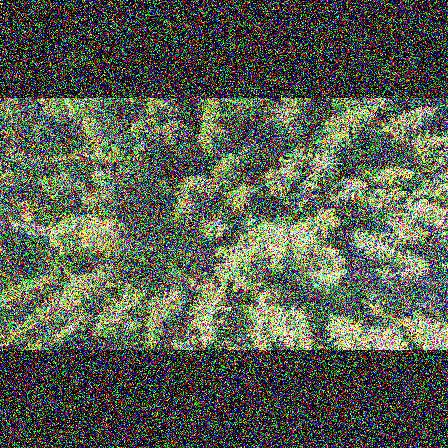Sick: (295, 182, 316, 204)
